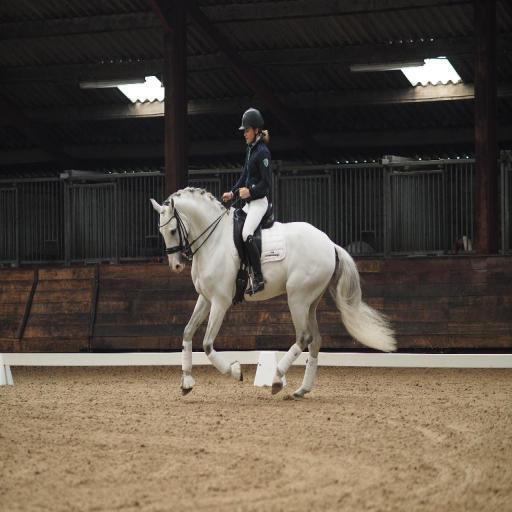horse: (148, 184, 400, 400)
